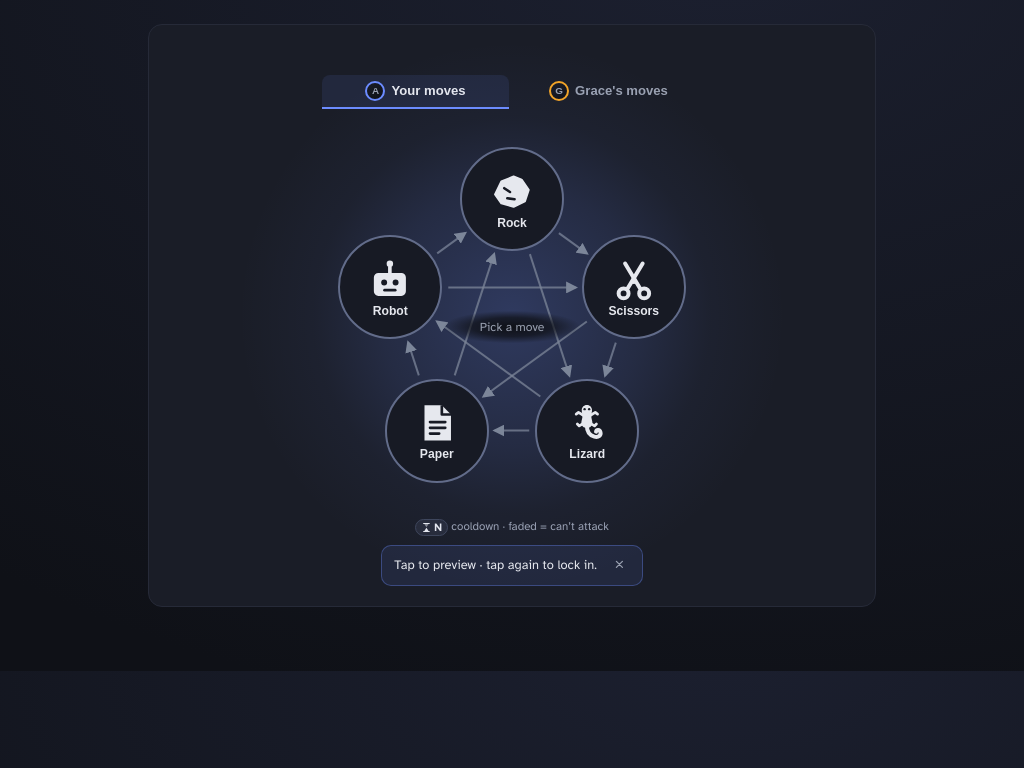
Scenario: the beginner guidance fits the board it teaches › stays inside the board with every clause showing at 320px
This screenshot has width=1024, height=768.
Click the button with class "move-btn" showing "Rock" at (512, 199), box [460,147,564,251]
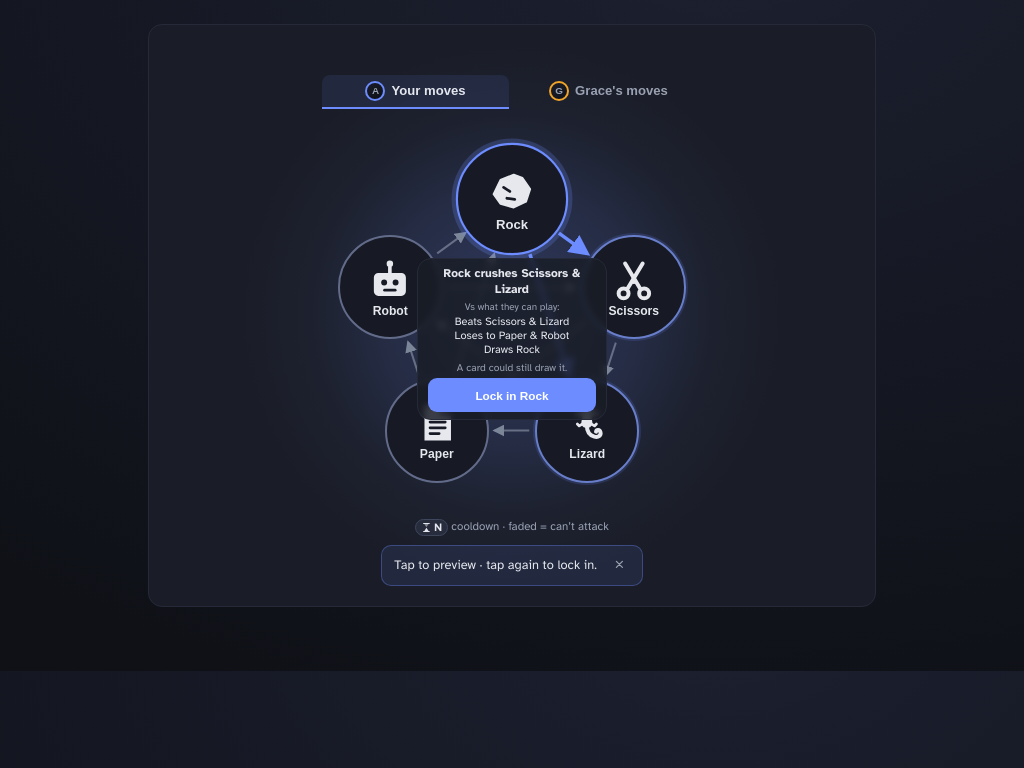
Expected: the list is shown, [454,315,569,358]
Expected: the number of list items is 3, [454,315,569,329]; [454,329,569,343]; [484,343,540,356]
Expected: the element that starts with "Rock crushes Scissors & Lizard" shows "could still draw it", [457,361,567,374]
